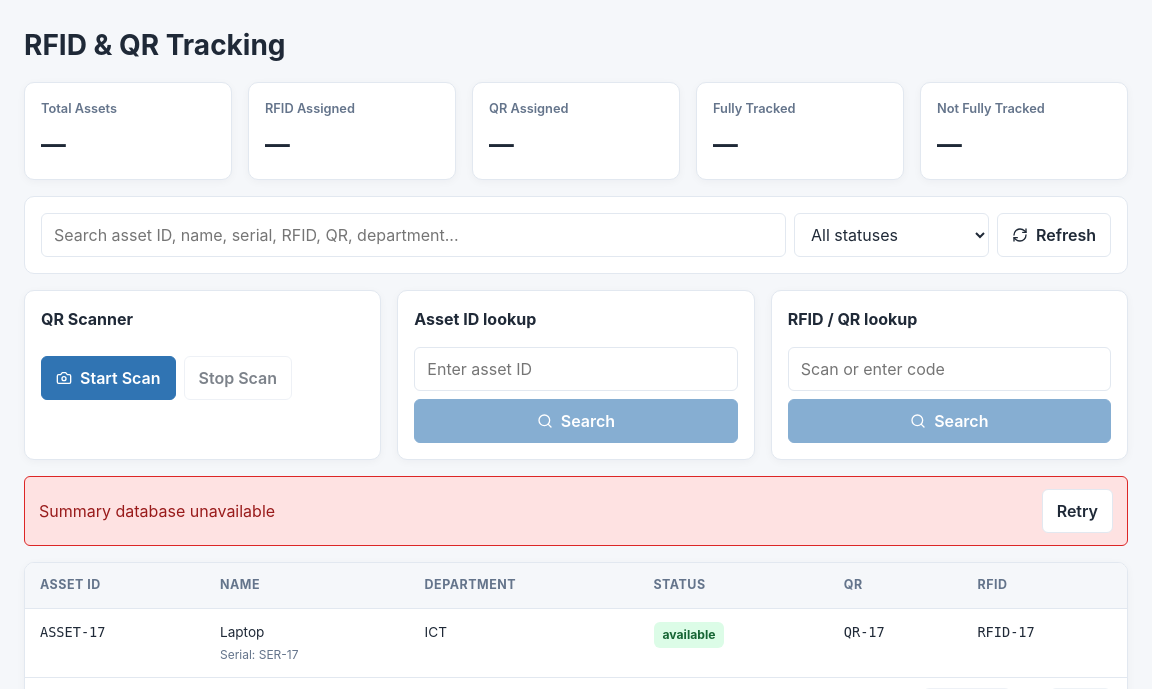
Test: retries a failed summary independently and keeps the asset table usable
Expected: the message shows "Summary database unavailable", [39, 501, 275, 521]
Expected: the text "Laptop" is shown, [220, 624, 264, 640]
Click the button "Retry" at (1077, 511), box [1042, 489, 1113, 533]
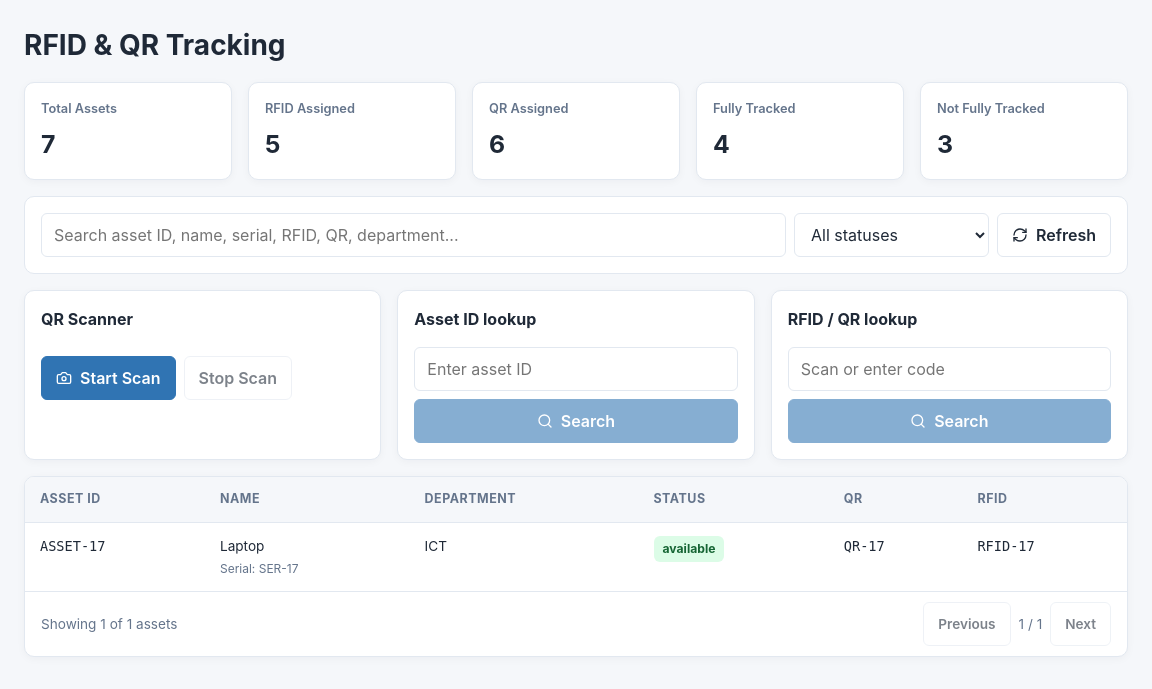
Now the text "7" is shown, box [41, 129, 55, 159]
